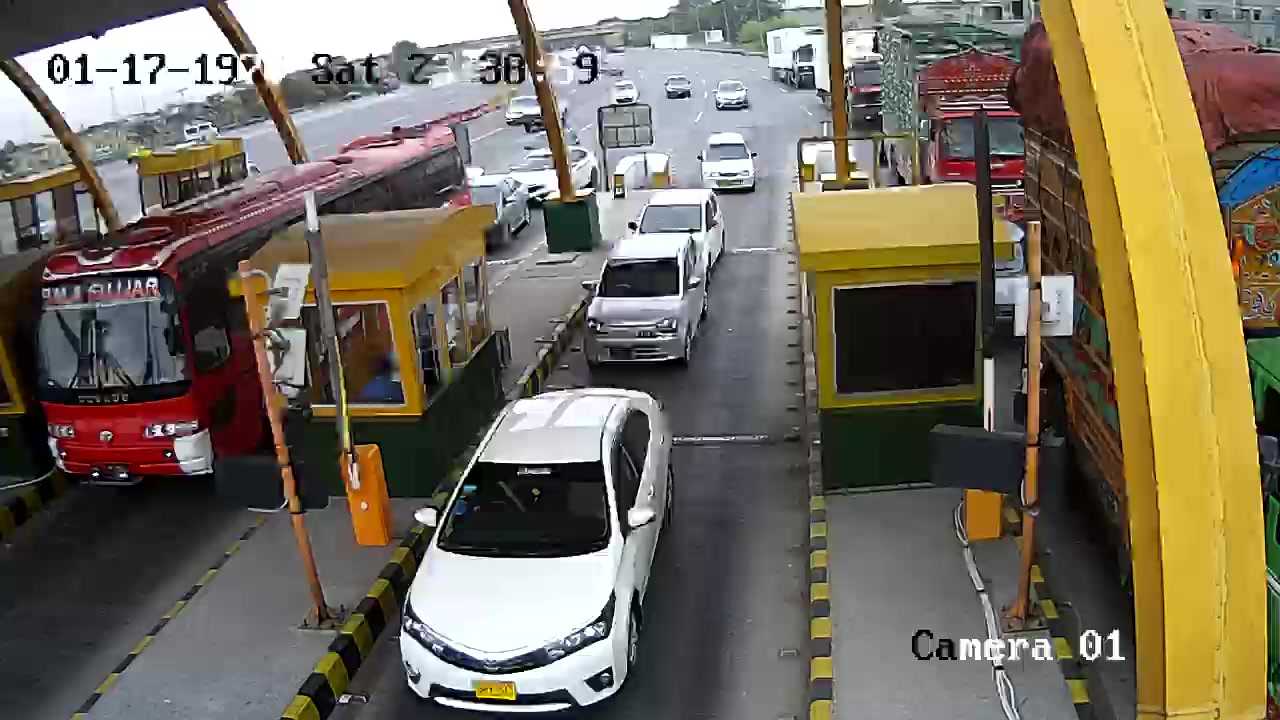F1: (375, 383, 702, 715), (577, 235, 710, 377)
